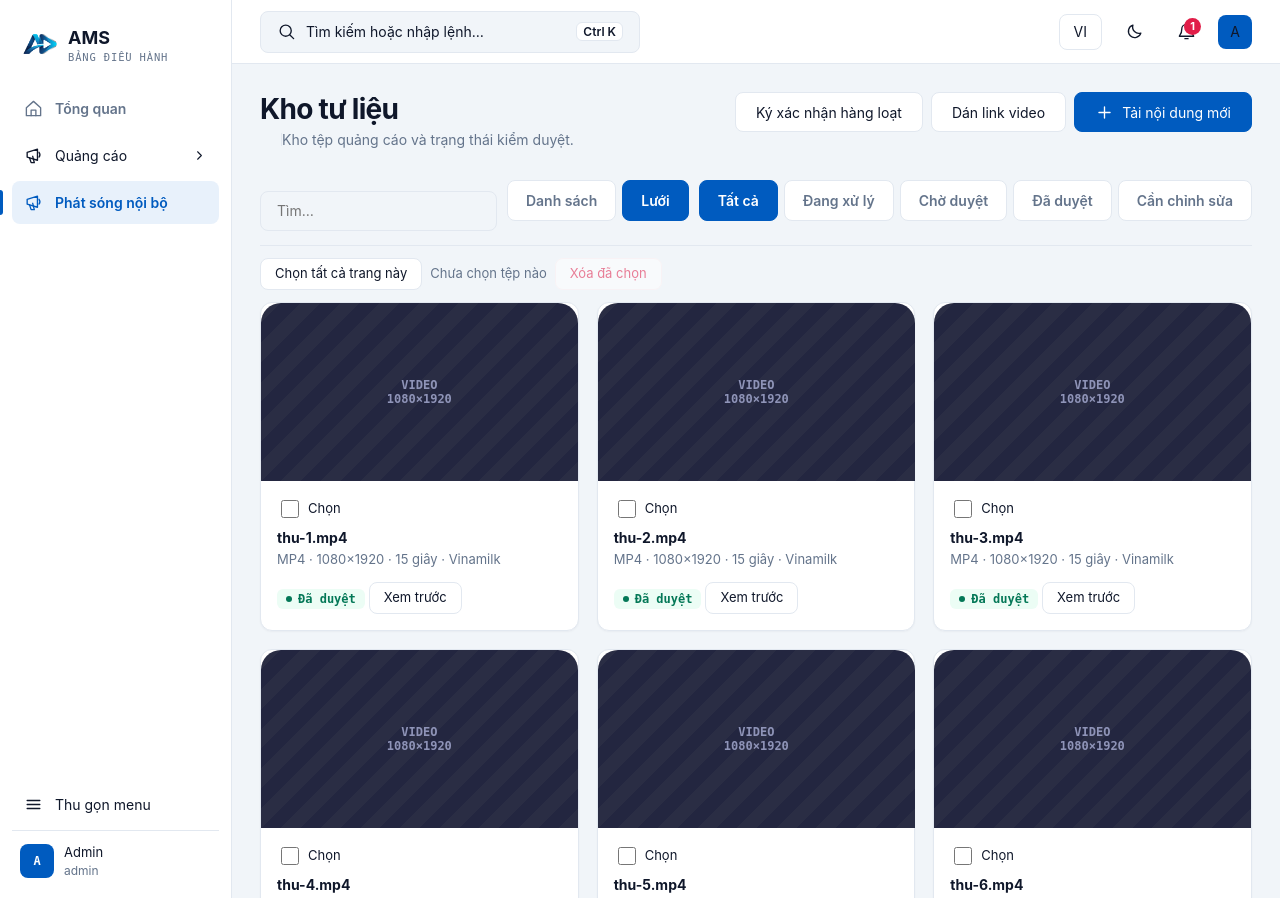
Media: xoa hang loat › hon 5 tep: phai go dung XOA moi bam duoc; "Chon tat ca trang nay" chon het; chu thuong khong du
The image size is (1280, 898).
Check: the text "thu-1.mp4" is shown, box [277,529,347,546]
Click the button "Chọn tất cả trang này" at (341, 274), box [260,258,422,290]
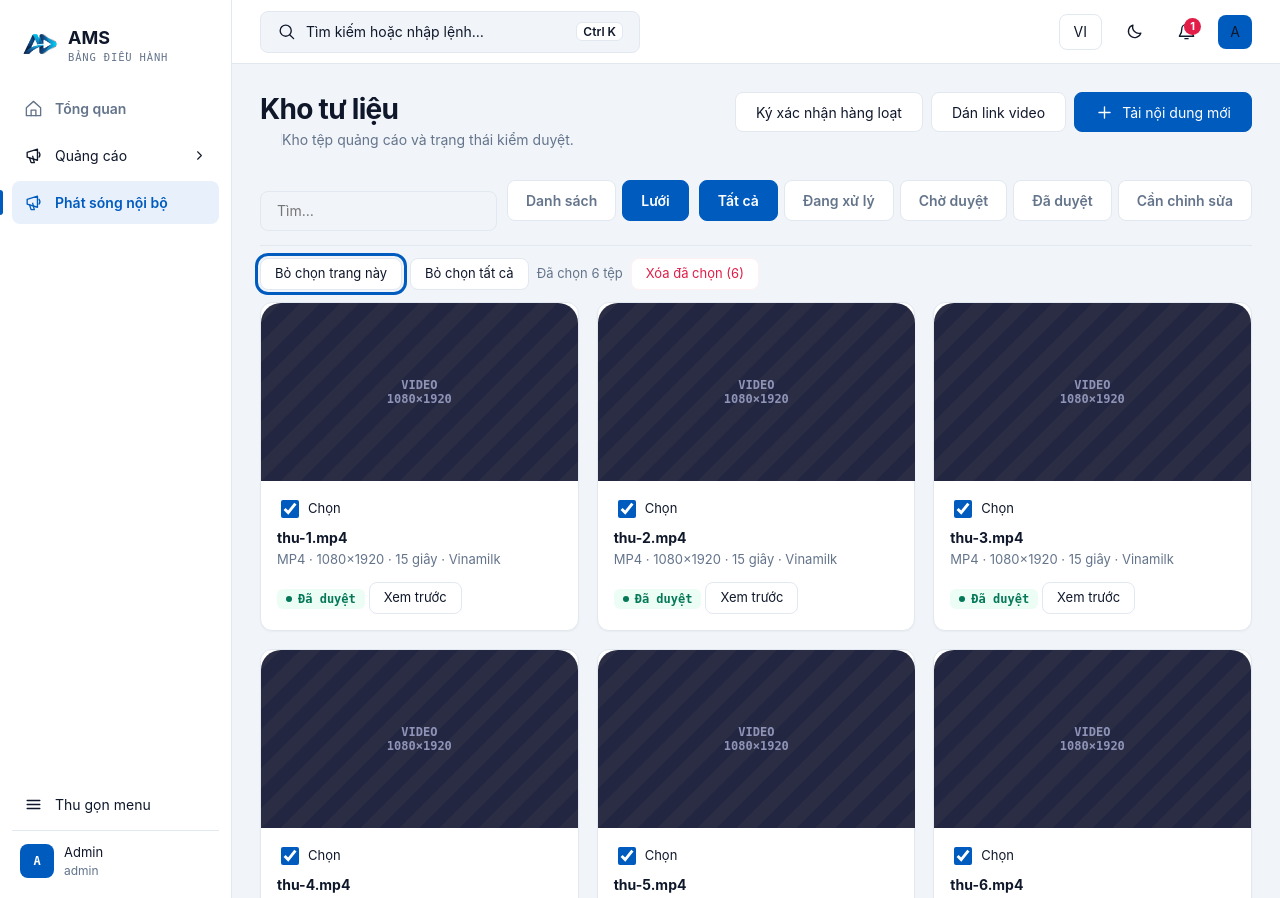
Check: the text "Đã chọn 6 tệp" is shown, box [537,264,623,284]
Click the button "Xóa đã chọn (6)" at (695, 274), box [631,258,759,290]
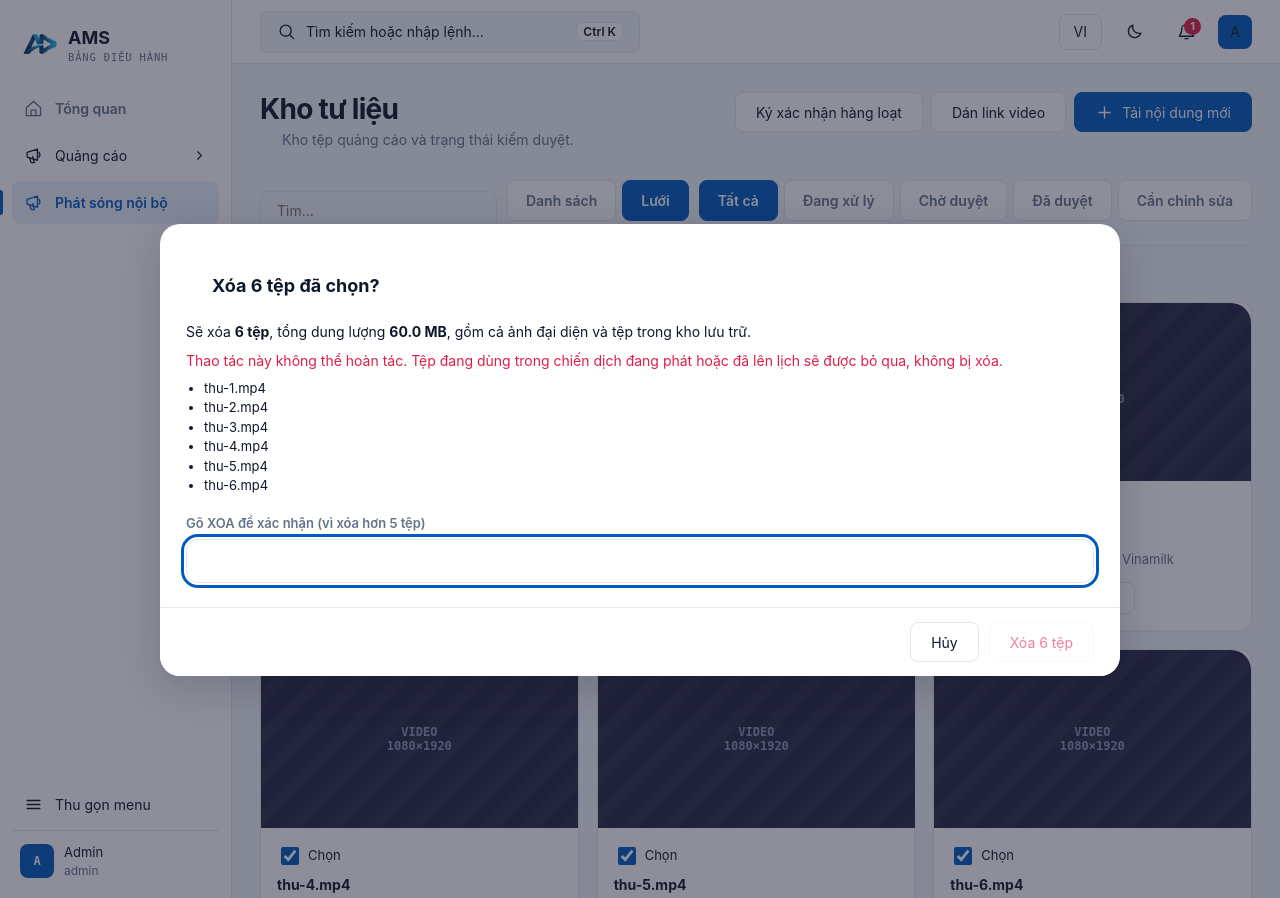
Check: the dialog named "Xóa các tệp đã chọn" shows "60.0 MB", box [389,323,447,340]
Check: the button "Xóa 6 tệp" is disabled, box [989,622,1094,662]
Type "xoa" into the field labelled "Gõ XOA để xác nhận" at (640, 561), box [186,539,1094,583]
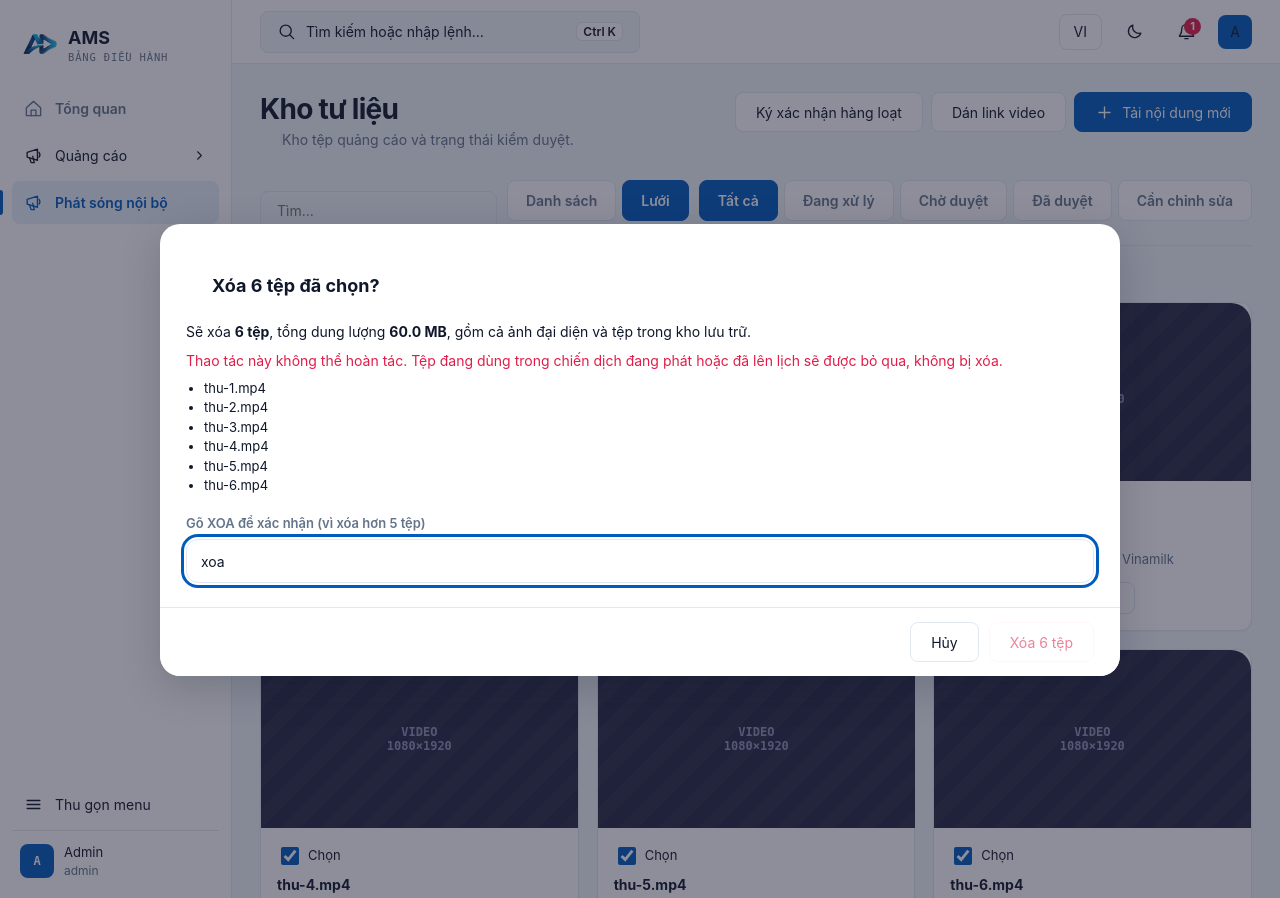
Check: the button "Xóa 6 tệp" is disabled, box [989,622,1094,662]
Replace the text in the field labelled "Gõ XOA để xác nhận" with "XOA" at (640, 561), box [186,539,1094,583]
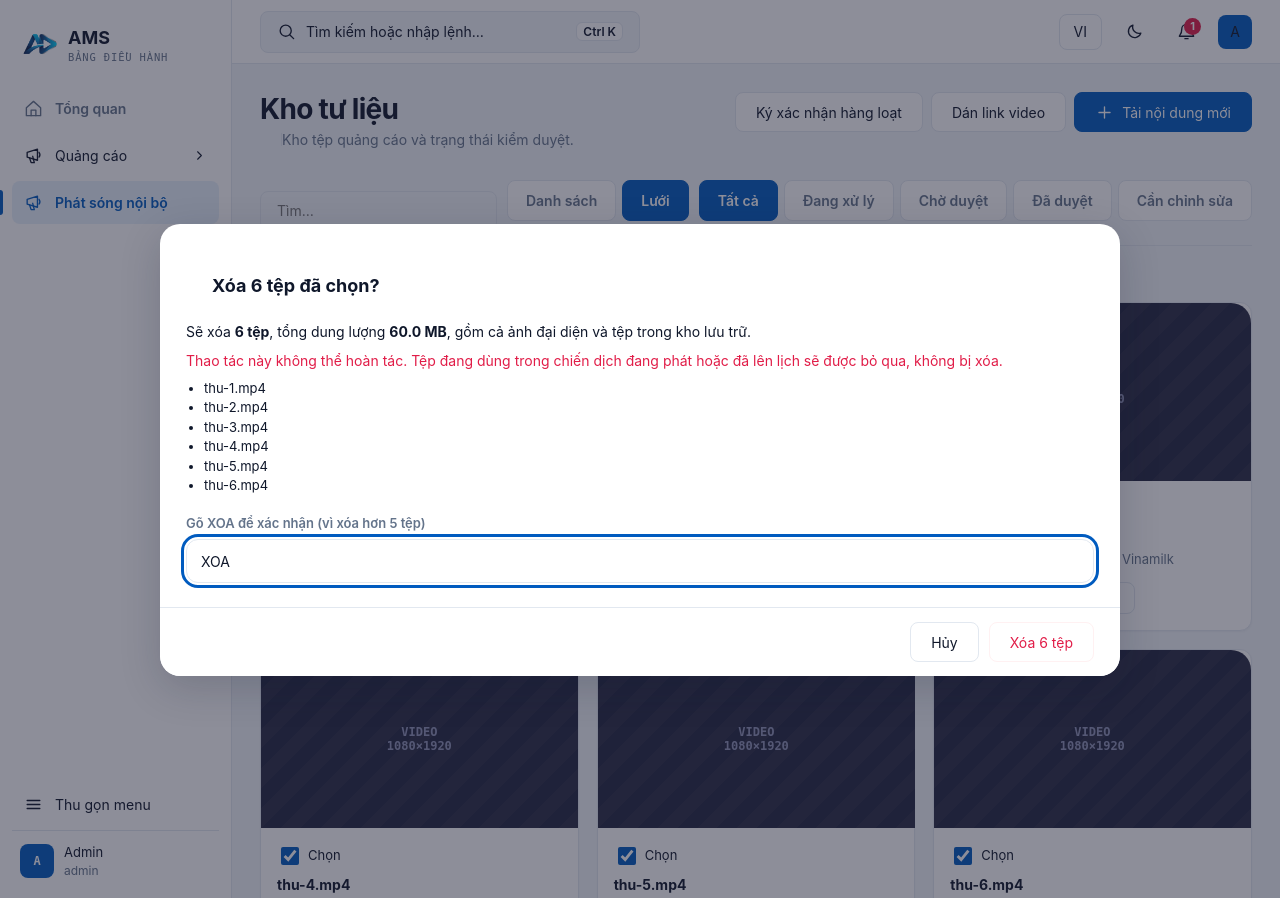
Check: the button "Xóa 6 tệp" is enabled
Click the button "Xóa 6 tệp" at (1041, 642), box [989,622,1094,662]
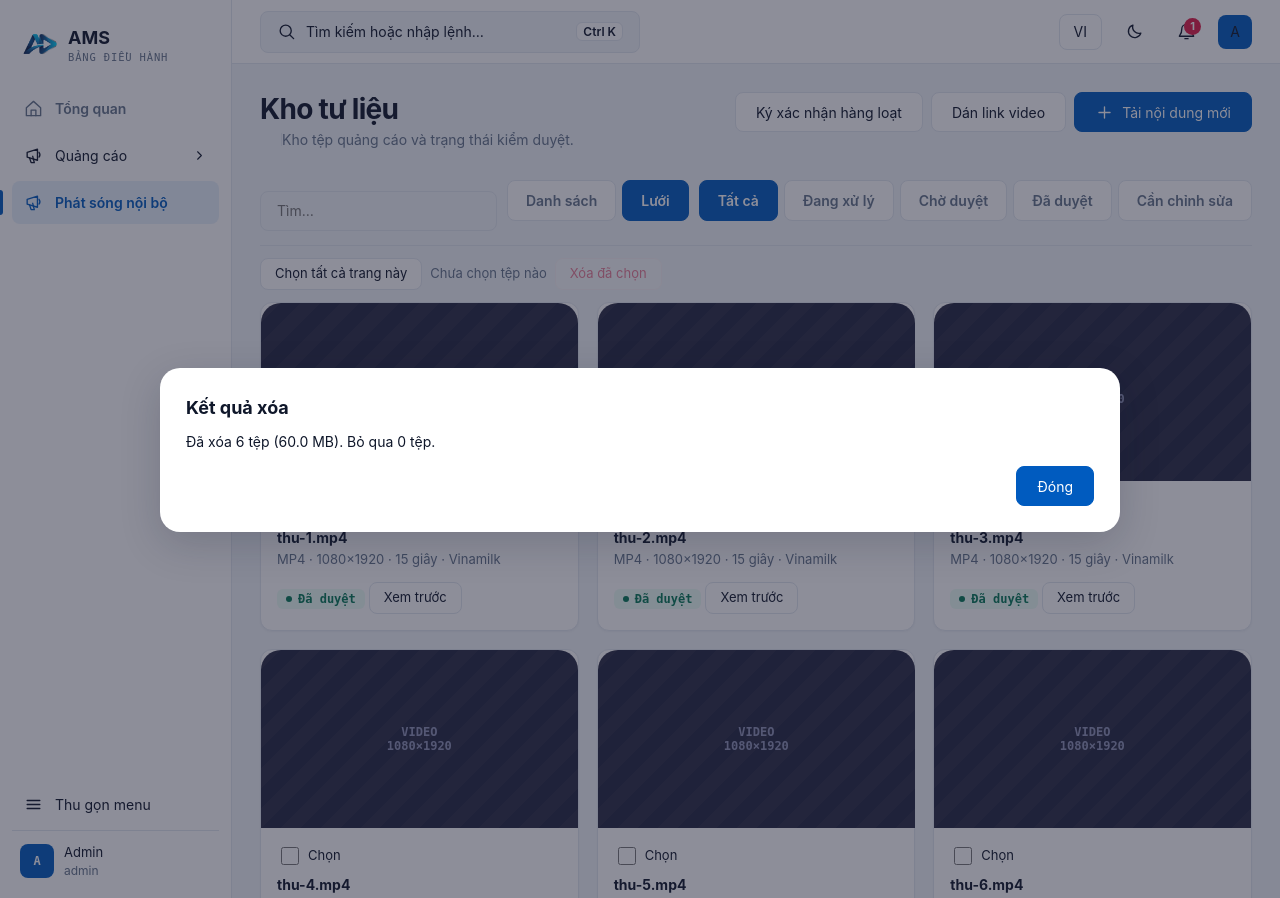
Check: the message shows "Đã xóa 6 tệp", box [186,433,435,450]
